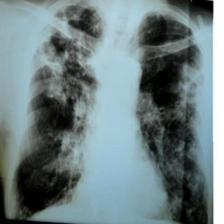tuberculosis: (9, 2, 214, 224)
